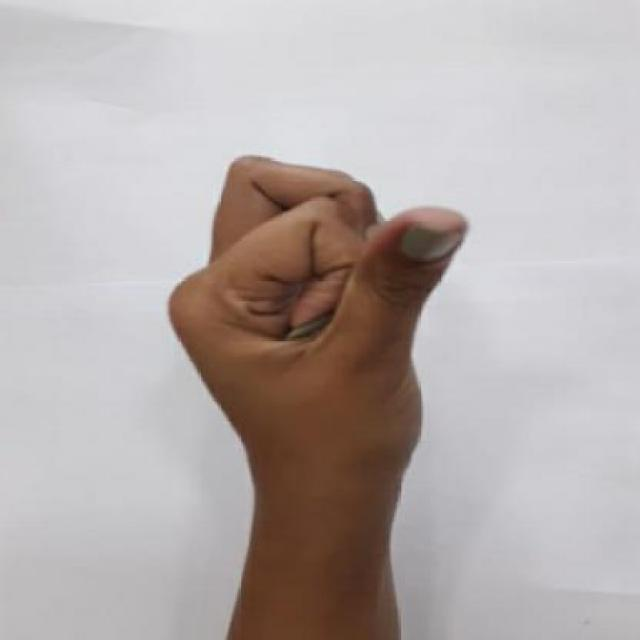without_gloves: (152, 136, 508, 570)
